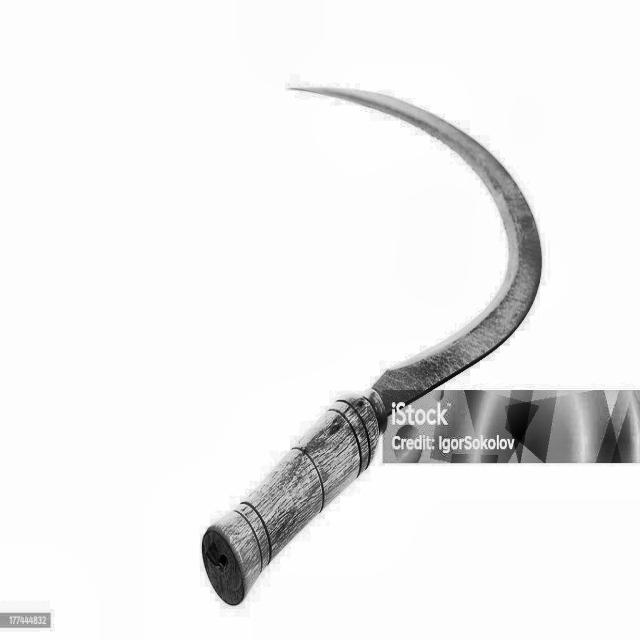celurit: (195, 62, 551, 616)
